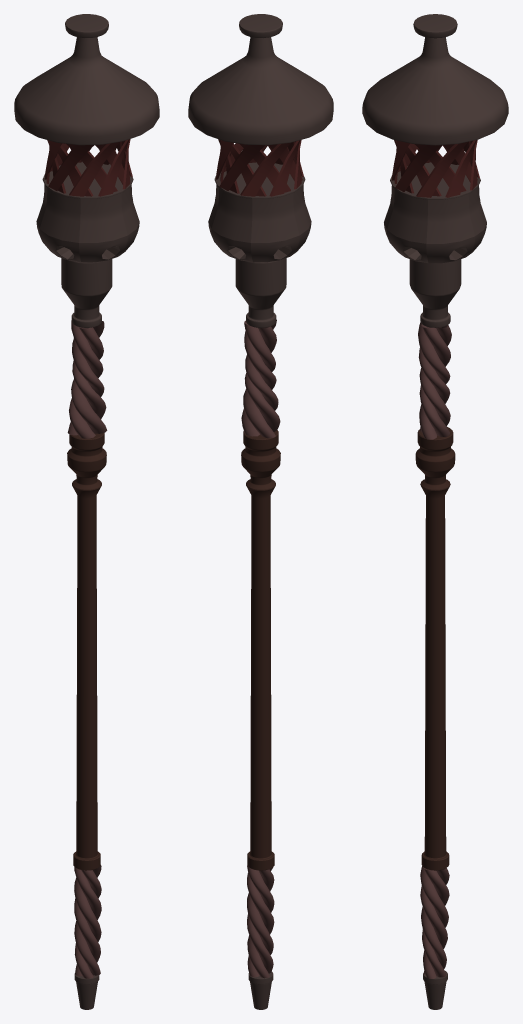
File: staff.glb
3 views of the same model, side by side, from view 1: azimuth 30°, elevation 25°; view 2: azimuth 150°, elevation 25°; view 3: azimuth 270°, elevation 25° (orthographic).
Visible parts, largest first — view 1: Staff7, Staff9, Staff15, Staff11, Staff4, Staff21, Staff2, Staff20, Staff24, Staff10; view 2: Staff7, Staff9, Staff15, Staff11, Staff4, Staff21, Staff19, Staff18, Staff24, Staff14; view 3: Staff7, Staff9, Staff15, Staff11, Staff4, Staff21, Staff1, Staff25, Staff24, Staff16.
Boxes of the visible parts, box(x1,y1,x2,y2) form: Staff7: box(14, 14, 159, 145); Staff9: box(67, 433, 106, 870); Staff15: box(36, 161, 139, 262); Staff11: box(67, 320, 107, 438); Staff4: box(74, 865, 101, 978); Staff21: box(61, 258, 112, 327); Staff2: box(69, 142, 119, 196); Staff20: box(48, 145, 94, 190); Staff24: box(74, 973, 99, 1009); Staff10: box(98, 139, 129, 196); Staff7: box(188, 14, 333, 145); Staff9: box(241, 430, 280, 870); Staff15: box(208, 162, 311, 262); Staff11: box(241, 319, 280, 438); Staff4: box(247, 865, 274, 978); Staff21: box(235, 258, 286, 327); Staff19: box(240, 142, 290, 196); Staff18: box(219, 144, 264, 190); Staff24: box(248, 972, 273, 1009); Staff14: box(269, 140, 300, 196); Staff7: box(362, 14, 508, 145); Staff9: box(415, 427, 455, 870); Staff15: box(384, 162, 486, 263); Staff11: box(418, 322, 451, 439); Staff4: box(420, 866, 449, 978); Staff21: box(409, 259, 461, 327); Staff1: box(416, 141, 468, 197); Staff25: box(395, 144, 442, 191); Staff24: box(423, 970, 447, 1009); Staff16: box(445, 140, 476, 197).
Bounding box in the file's own units: 0.163 × 1.21 × 0.163.
